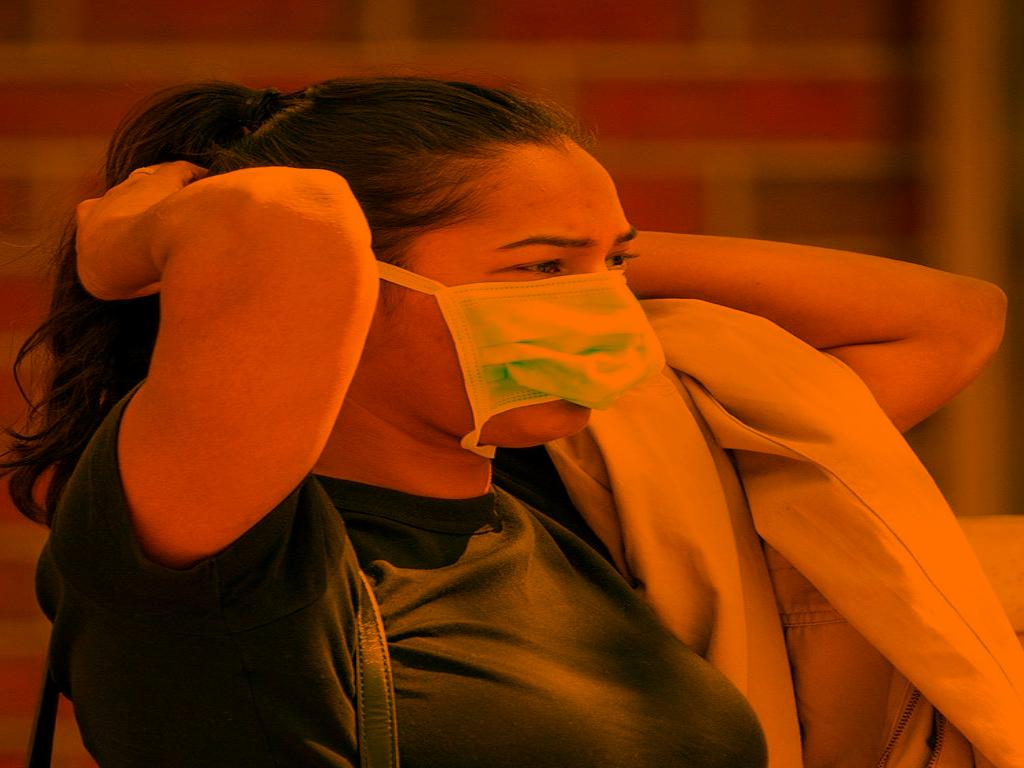mask_weared_incorrect: (210, 75, 671, 465)
